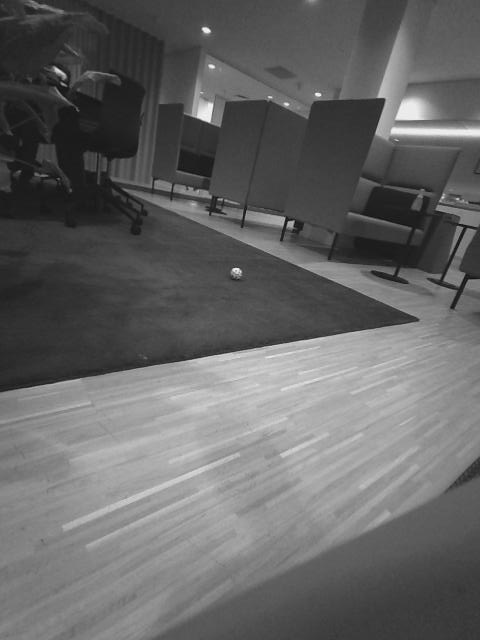dogtoy: (225, 263, 249, 285)
